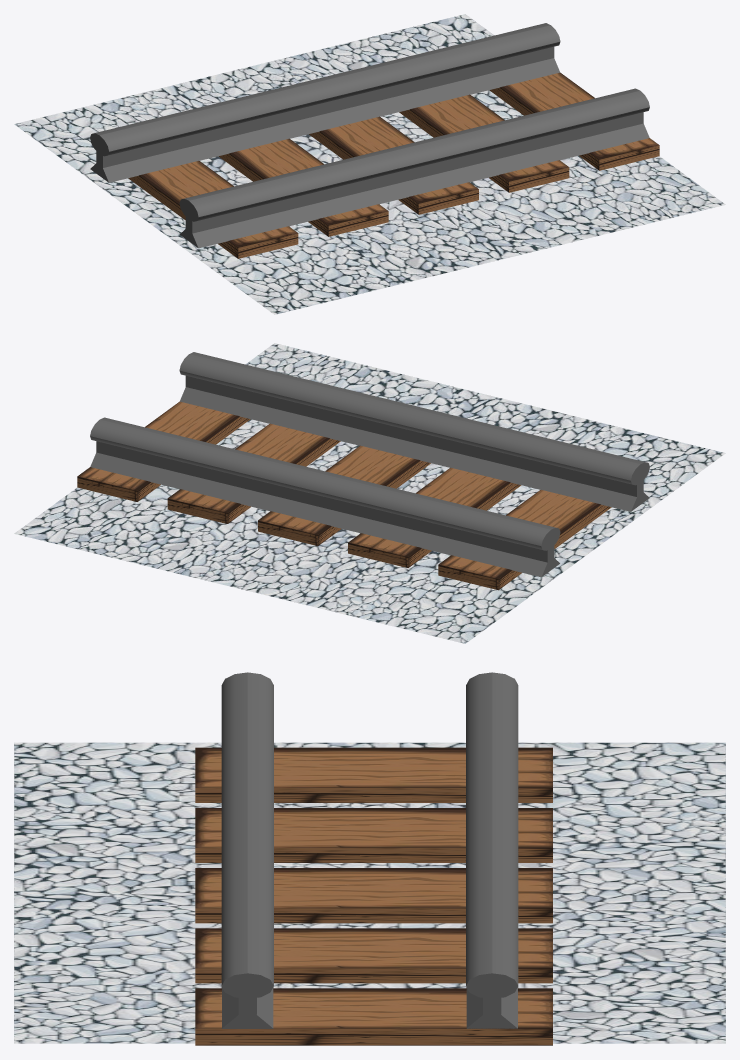
File: railDroitWithBackGround.fbx
3 views of the same model, one above another, from view 1: azimuth 30°, elevation 25°; view 2: azimuth 150°, elevation 25°; view 3: azimuth 270°, elevation 25° (orthographic). The views are drawn at different scales.
Visible parts, largest first — view 1: Plane, rail, rail.001, planche.004, planche.001, planche.006, planche.003, planche.002; view 2: Plane, rail.001, rail, planche.004, planche.001, planche.006, planche.003, planche.002; view 3: Plane, rail.001, rail, planche.006, planche.001, planche.002, planche.004, planche.003.
Boxes of the visible parts, left/top/right/bottom form: Plane: left=14, top=14, right=725, bottom=314; rail: left=179, top=88, right=649, bottom=248; rail.001: left=90, top=23, right=560, bottom=182; planche.004: left=128, top=161, right=298, bottom=258; planche.001: left=399, top=94, right=569, bottom=192; planche.006: left=489, top=72, right=659, bottom=170; planche.003: left=218, top=138, right=388, bottom=236; planche.002: left=309, top=116, right=478, bottom=214; Plane: left=14, top=343, right=725, bottom=643; rail.001: left=90, top=417, right=560, bottom=577; rail: left=179, top=352, right=649, bottom=511; planche.004: left=438, top=490, right=611, bottom=590; planche.001: left=167, top=423, right=340, bottom=523; planche.006: left=77, top=401, right=250, bottom=501; planche.003: left=348, top=467, right=521, bottom=567; planche.002: left=258, top=445, right=430, bottom=545; Plane: left=14, top=742, right=725, bottom=1043; rail.001: left=466, top=672, right=518, bottom=1028; rail: left=221, top=672, right=273, bottom=1028; planche.006: left=195, top=988, right=552, bottom=1045; planche.001: left=195, top=928, right=552, bottom=983; planche.002: left=195, top=868, right=552, bottom=923; planche.004: left=195, top=747, right=552, bottom=802; planche.003: left=195, top=808, right=552, bottom=862.
Size of the model in its own units: 3000 by 336 by 3000.
